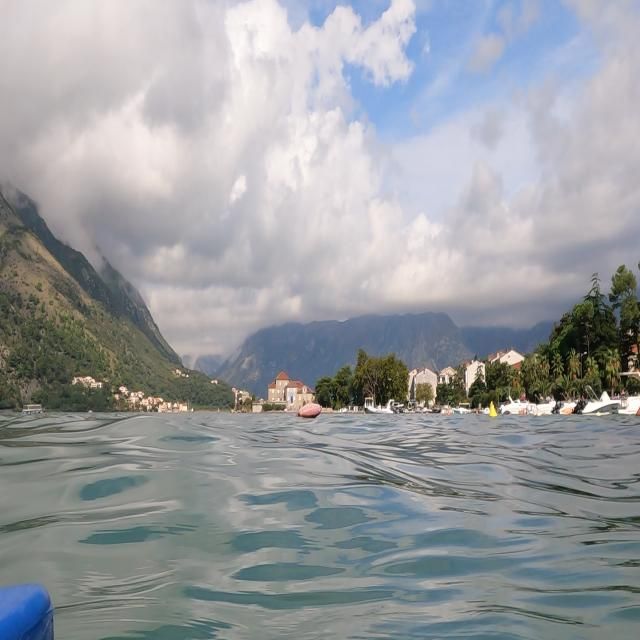boat: (552, 366, 640, 434)
buoy: (296, 396, 328, 426), (487, 400, 501, 423)
